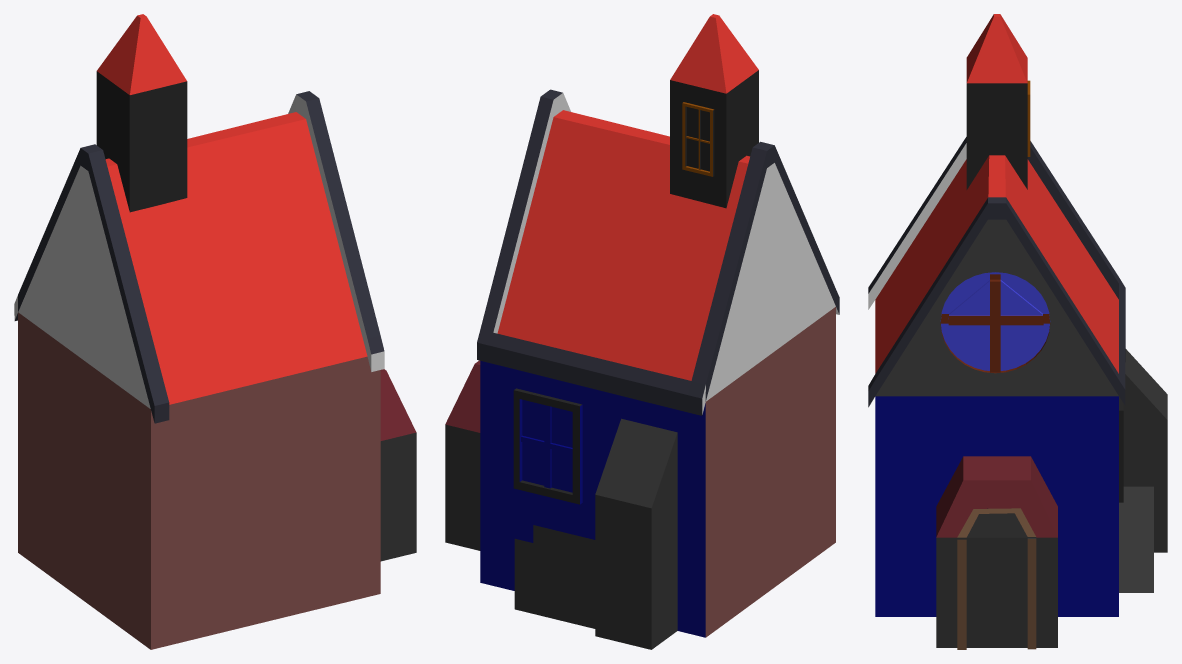
The model's file is castles.fbx.
3 views of the same model, side by side, from view 1: azimuth 30°, elevation 25°; view 2: azimuth 150°, elevation 25°; view 3: azimuth 270°, elevation 25° (orthographic). The views are drawn at different scales.
Parts seen in each view (by area): view 1: Cube, Cube.003, Cube.002, Cube.001, Cube.005; view 2: Cube.003, Cube, Cube.004, Cube.002, Cube.001, Cube.005; view 3: Cube.003, Cube, Cube.001, Cube.004, Circle, Cube.002, Cube.005.
Boxes of the visible parts, x1,y1,x2,y2 form: Cube: (18, 312, 380, 649); Cube.003: (14, 91, 384, 423); Cube.002: (96, 71, 187, 212); Cube.001: (380, 369, 416, 561); Cube.005: (97, 14, 186, 94); Cube.003: (477, 89, 839, 415); Cube: (480, 307, 835, 637); Cube.004: (514, 418, 677, 649); Cube.002: (670, 70, 758, 208); Cube.001: (445, 360, 480, 550); Cube.005: (670, 14, 758, 93); Cube.003: (868, 137, 1125, 407); Cube: (875, 396, 1123, 616); Cube.001: (936, 456, 1057, 649); Cube.004: (1119, 349, 1167, 592); Circle: (940, 272, 1050, 373); Cube.002: (966, 80, 1030, 189); Cube.005: (966, 14, 1027, 83).
Bounding box in the file's own units: 529 × 950 × 492.
